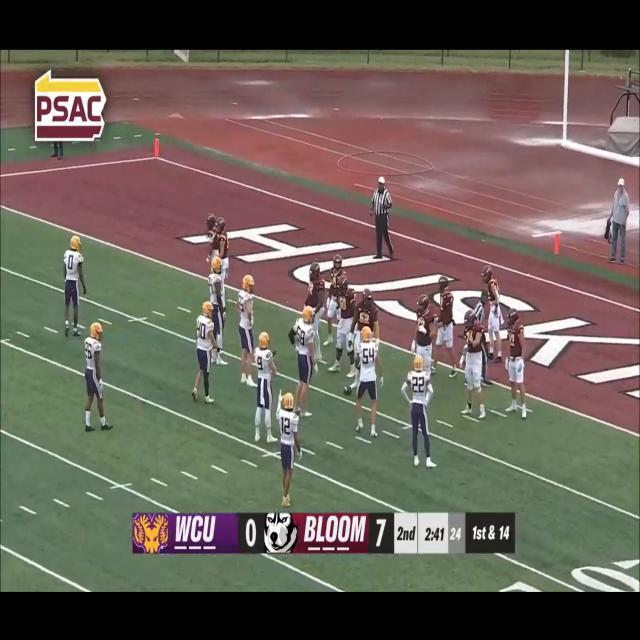football: (341, 380, 356, 400)
